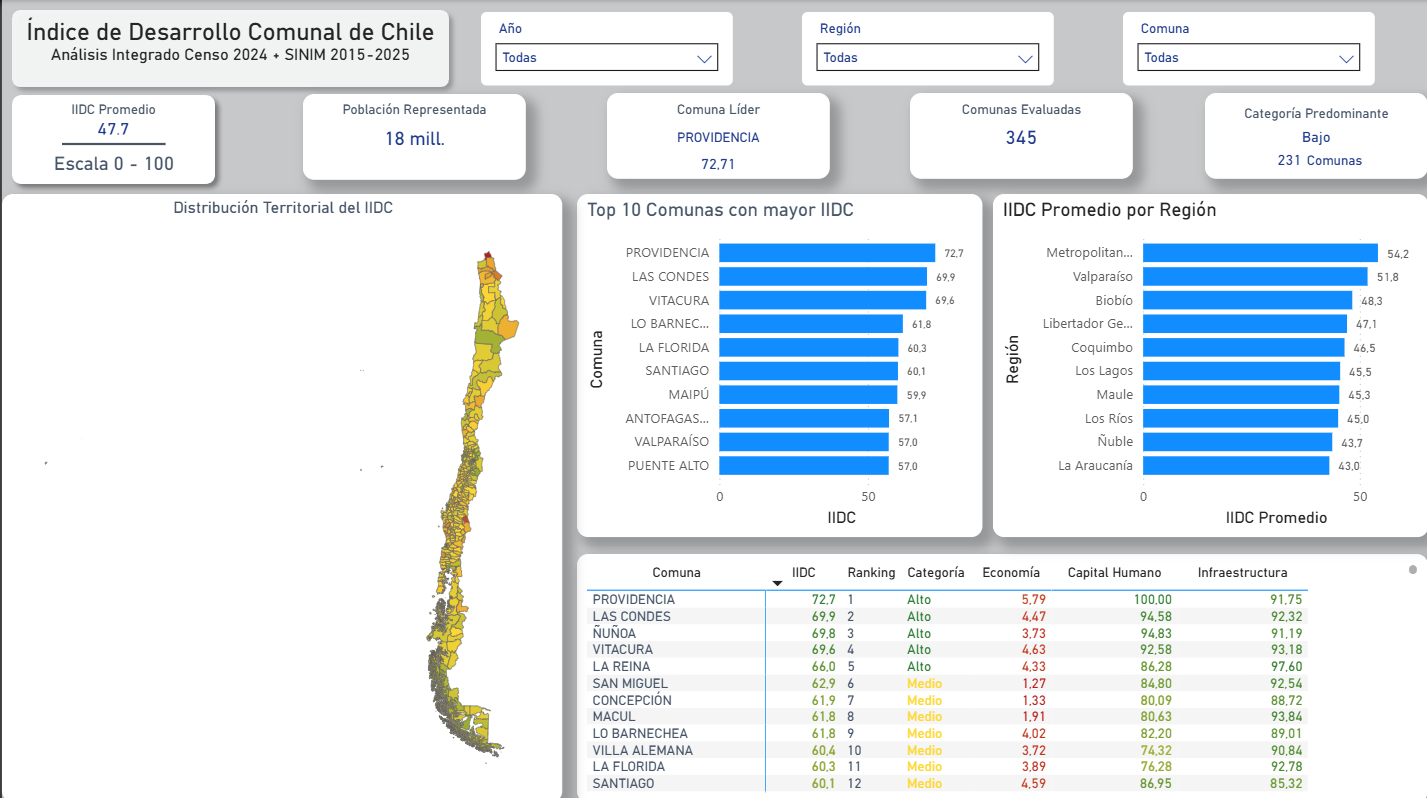

What the dashboard file says about the page in this screenshot:
{"tool":"powerbi","page":{"name":"Panorama Nacional","canvas":[1280,720],"ordinal":0},"visuals":[{"type":"shape","box":[0,76.3,200.2,97.9],"z":0},{"type":"shape","box":[0,0,410.3,87.1],"z":1000},{"type":"textbox","box":[0,10.8,410.3,65.5],"z":2000},{"type":"slicer","fields":{"Values":["dim_año.Año"]},"box":[430,10.8,226.2,65.5],"z":3000},{"type":"slicer","fields":{"Values":["dim_comuna.nombre_region"]},"box":[718.2,10.8,226.2,65.5],"z":4000},{"type":"slicer","fields":{"Values":["dim_comuna.nombre_comuna"]},"box":[1006.4,10.8,226.2,65.5],"z":5000},{"type":"cardVisual","fields":{"Data":["Medidas.Comuna Líder"]},"box":[543.1,83.5,200.2,77.2],"z":6000},{"type":"cardVisual","fields":{"Data":["Medidas.Categoría Predominante"]},"box":[1079.8,83.8,200.2,77.2],"z":7000},{"type":"cardVisual","fields":{"Data":["Medidas.Población Total"]},"box":[270.2,84.4,200.2,77.2],"z":8000},{"type":"cardVisual","fields":{"Data":["Medidas.Cantidad de comunas"]},"box":[815.2,83.5,200.2,77.2],"z":9000},{"type":"clusteredBarChart","title":"Top 10 Comunas con mayor IIDC","fields":{"Category":["dim_comuna.nombre_comuna"],"Y":["Sum(MART_IIDC.iidc)"]},"box":[516.2,174.2,363.6,307.9],"z":10000},{"type":"pivotTable","fields":{"Rows":["dim_comuna.nombre_comuna"],"Values":["Sum(MART_IIDC.iidc)","Min(MART_IIDC.ranking_iidc)","Medidas.Categoría IIDC","Sum(MART_IIDC.score_economico)","Sum(MART_IIDC.score_capital_humano)","Sum(MART_IIDC.score_infraestructura)"]},"box":[516.2,497.4,764,222.6],"z":11000},{"type":"textbox","box":[270.2,83.5,200.2,26.9],"z":12000},{"type":"textbox","box":[815.2,83.5,200.2,26.9],"z":13000},{"type":"textbox","box":[0,83.5,200.2,26.9],"z":14000},{"type":"textbox","box":[543.1,83.5,200.2,26.9],"z":15000},{"type":"textbox","box":[1080,87.1,200.2,26.9],"z":16000},{"type":"cardVisual","fields":{"Data":["Medidas.IIDC Máximo"]},"box":[543.1,122.1,200.2,48.5],"z":17000},{"type":"shape","box":[53.9,123,93.4,12.6],"z":18000},{"type":"textbox","box":[23.3,132,154.4,28.7],"z":19000},{"type":"cardVisual","fields":{"Data":["Medidas.IIDC Promedio"]},"box":[0,89.8,200.2,48.5],"z":20000},{"type":"cardVisual","fields":{"Data":["Medidas.Comunas Categoría Predominante"]},"box":[1112.3,118.5,88,48.5],"z":21000},{"type":"textbox","box":[1159.9,129.3,72.7,26.9],"z":22000},{"type":"shapeMap","title":"Distribución Territorial del IIDC","fields":{"Category":["dim_comuna.Codigo_Comuna_Mapa"],"Value":["Sum(MART_IIDC.iidc)"]},"box":[0,174.2,502.7,545.8],"z":23000},{"type":"clusteredBarChart","fields":{"Category":["dim_comuna.nombre_region"],"Y":["Medidas.IIDC Promedio"]},"box":[889.7,174.2,390.5,307.9],"z":24000}]}

Visuals, with their boxes in screenshot pixels (x1, y1, x2, y2), scaled from the page's 1280x720 canvas onto the 1427x798 screenshot:
shape: l=0, t=85, r=223, b=193
shape: l=0, t=0, r=457, b=97
textbox: l=0, t=12, r=457, b=85
slicer - dim_año.Año: l=479, t=12, r=732, b=85
slicer - dim_comuna.nombre_region: l=801, t=12, r=1053, b=85
slicer - dim_comuna.nombre_comuna: l=1122, t=12, r=1374, b=85
cardVisual - Medidas.Comuna Líder: l=605, t=93, r=829, b=178
cardVisual - Medidas.Categoría Predominante: l=1204, t=93, r=1426, b=178
cardVisual - Medidas.Población Total: l=301, t=94, r=524, b=179
cardVisual - Medidas.Cantidad de comunas: l=909, t=93, r=1132, b=178
"Top 10 Comunas con mayor IIDC" clusteredBarChart: l=575, t=193, r=981, b=534
pivotTable - dim_comuna.nombre_comuna x Sum(MART_IIDC.iidc): l=575, t=551, r=1426, b=797
textbox: l=301, t=93, r=524, b=122
textbox: l=909, t=93, r=1132, b=122
textbox: l=0, t=93, r=223, b=122
textbox: l=605, t=93, r=829, b=122
textbox: l=1204, t=97, r=1426, b=126
cardVisual - Medidas.IIDC Máximo: l=605, t=135, r=829, b=189
shape: l=60, t=136, r=164, b=150
textbox: l=26, t=146, r=198, b=178
cardVisual - Medidas.IIDC Promedio: l=0, t=100, r=223, b=153
cardVisual - Medidas.Comunas Categoría Predominante: l=1240, t=131, r=1338, b=185
textbox: l=1293, t=143, r=1374, b=173
"Distribución Territorial del IIDC" shapeMap: l=0, t=193, r=560, b=797
clusteredBarChart - dim_comuna.nombre_region x Medidas.IIDC Promedio: l=992, t=193, r=1426, b=534
